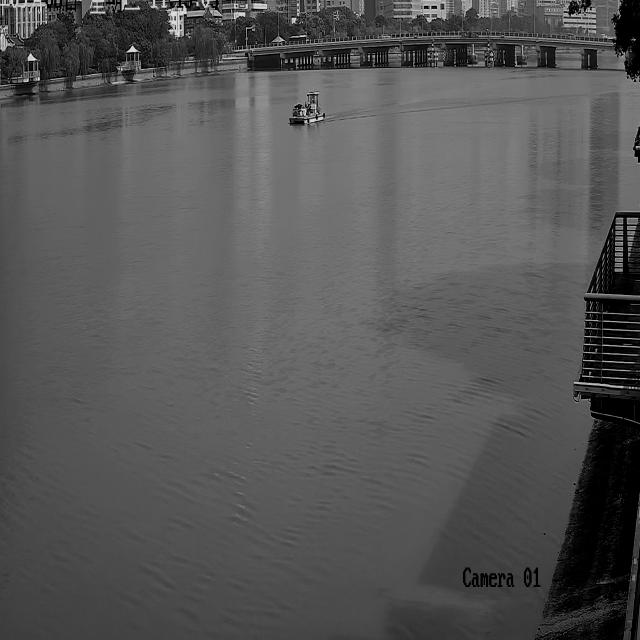ship: (288, 90, 324, 122)
